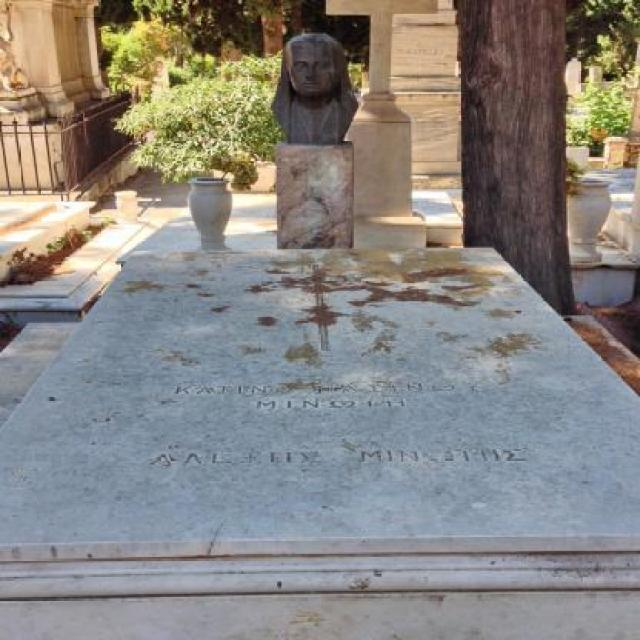Person: (266, 17, 374, 154)
